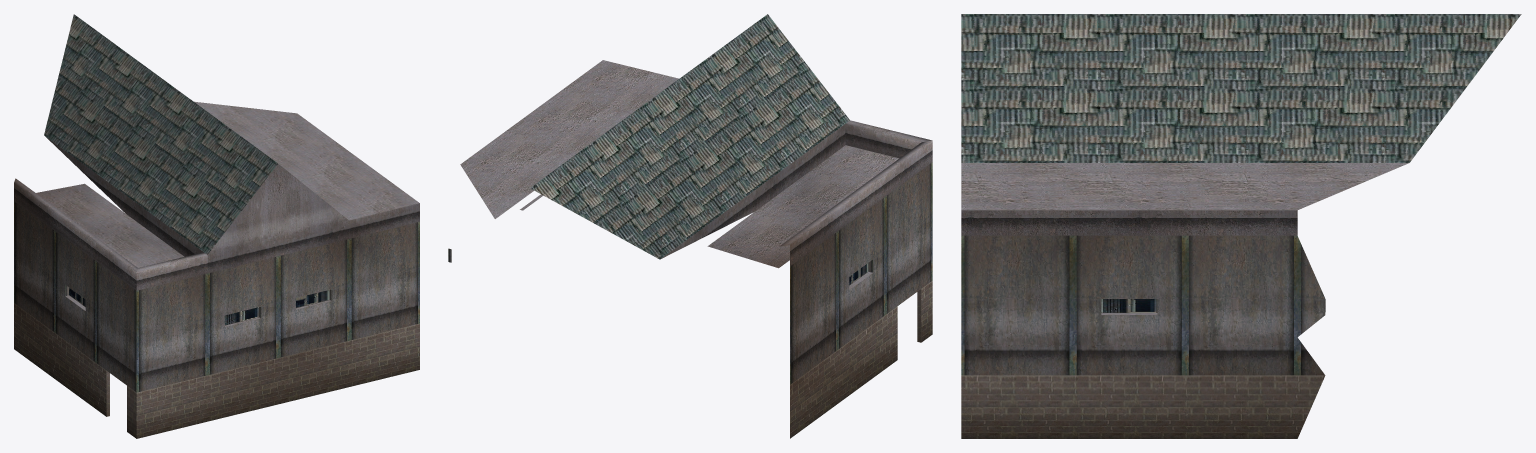
The model's file is M10_Z02Base_24_Offices01.glb.
The picture shows the model from 3 angles, left to right: view 1: azimuth 30°, elevation 25°; view 2: azimuth 150°, elevation 25°; view 3: azimuth 270°, elevation 25°; orthographic projection. The views are drawn at different scales.
Parts seen in each view (by area): view 1: M10_Z02BASE_24_OFFICES01; view 2: M10_Z02BASE_24_OFFICES01; view 3: M10_Z02BASE_24_OFFICES01.
Part boxes in pixels (box(x1,y1,x2,y2)): M10_Z02BASE_24_OFFICES01: box(14, 14, 419, 438); M10_Z02BASE_24_OFFICES01: box(448, 14, 932, 438); M10_Z02BASE_24_OFFICES01: box(961, 14, 1521, 438).
Bounding box in the file's own units: 16 × 13 × 20.
Materials: 6 (6 with a texture image).
